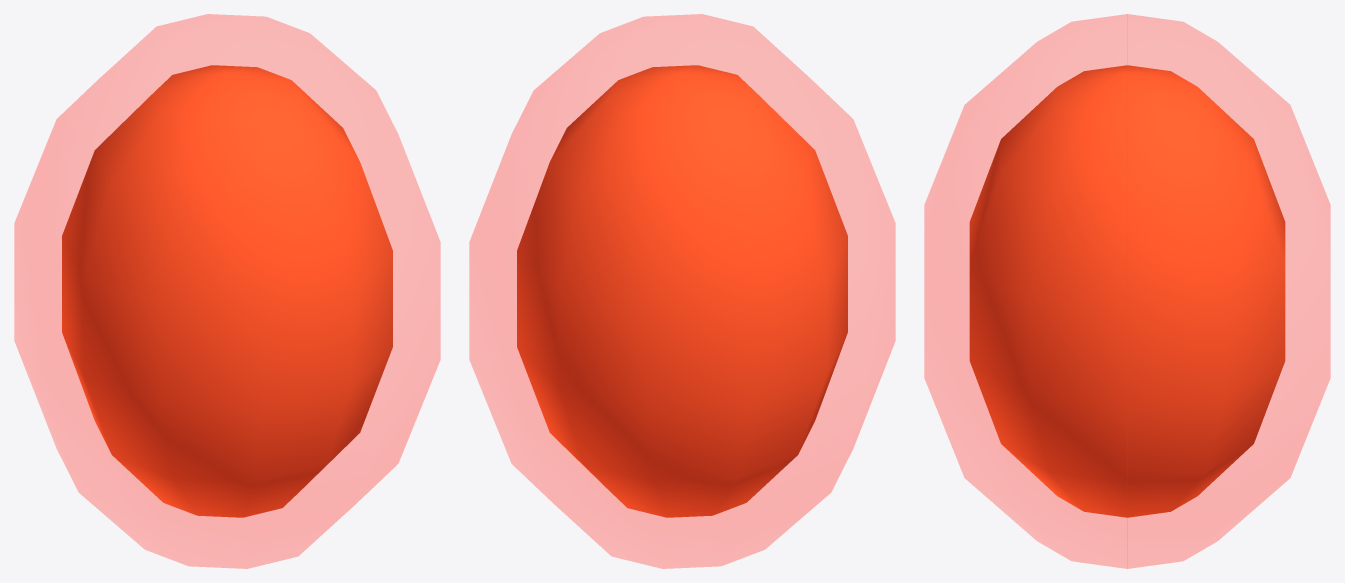
The model's file is phoenix_egg.glb.
The picture shows the model from 3 angles, left to right: view 1: azimuth 30°, elevation 25°; view 2: azimuth 150°, elevation 25°; view 3: azimuth 270°, elevation 25°; orthographic projection.
Parts seen in each view (by area): view 1: PhoenixEggRedAura, PhoenixEggShell; view 2: PhoenixEggRedAura, PhoenixEggShell; view 3: PhoenixEggRedAura, PhoenixEggShell.
Boxes of the visible parts, left/top/right/bottom form: PhoenixEggRedAura: left=14, top=14, right=440, bottom=568; PhoenixEggShell: left=62, top=65, right=392, bottom=517; PhoenixEggRedAura: left=469, top=14, right=895, bottom=568; PhoenixEggShell: left=517, top=65, right=847, bottom=517; PhoenixEggRedAura: left=924, top=14, right=1330, bottom=568; PhoenixEggShell: left=969, top=65, right=1285, bottom=517.
Bounding box in the file's own units: 0.7175 × 0.976 × 0.6824.
